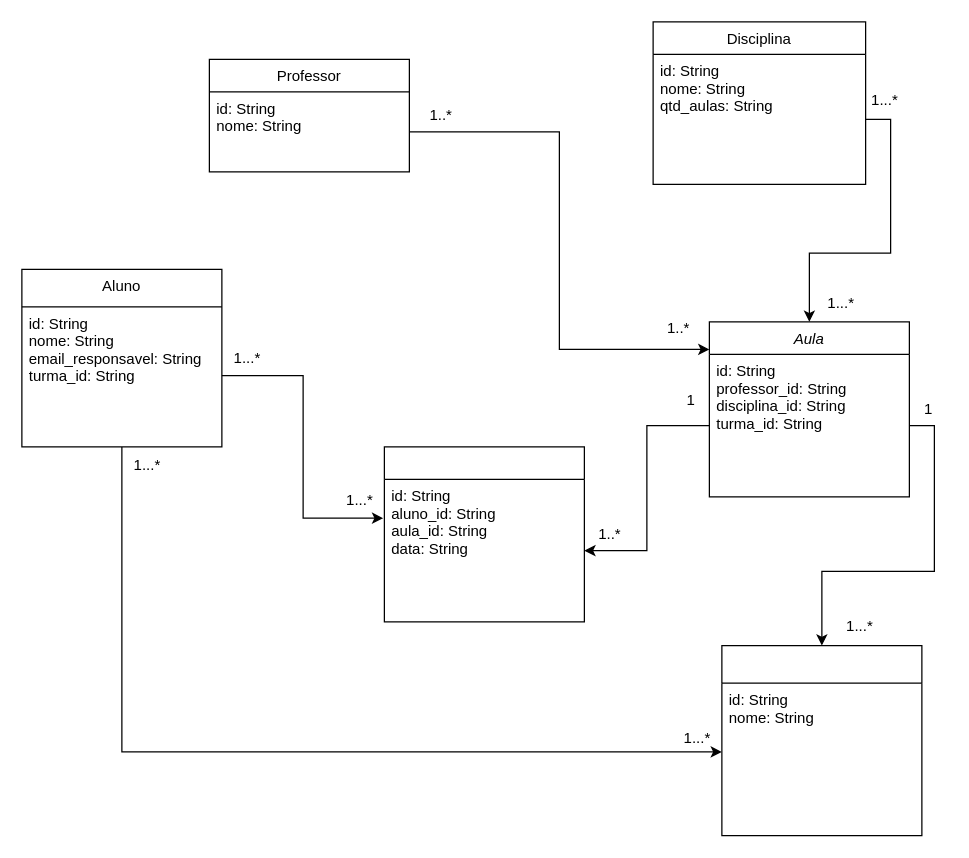
The diagram is 969 pixels wide and 858 high, and some of its shapes have lost their labels. Here are the shapes that lost their labels. From the top down, the box of each, then its label:
(383, 446, 584, 622): Falta
(721, 644, 922, 836): Turma
